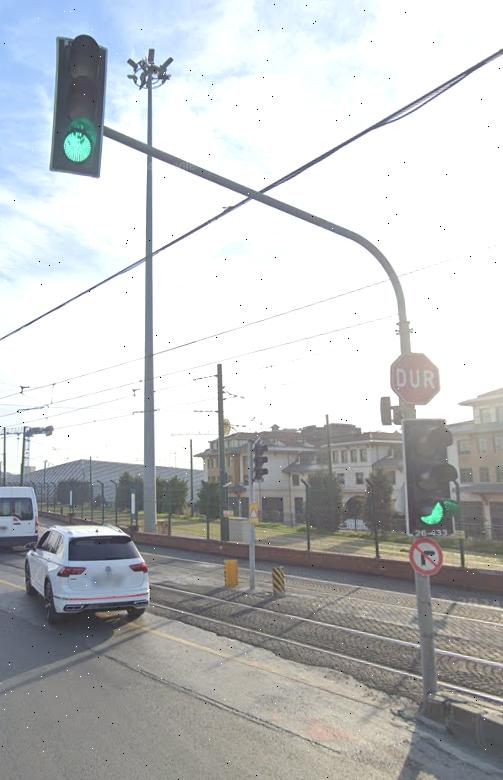greenlight: (56, 30, 109, 180), (405, 417, 450, 538)
rightturnsareforbidden: (409, 537, 443, 575)
stop: (391, 352, 441, 404)
